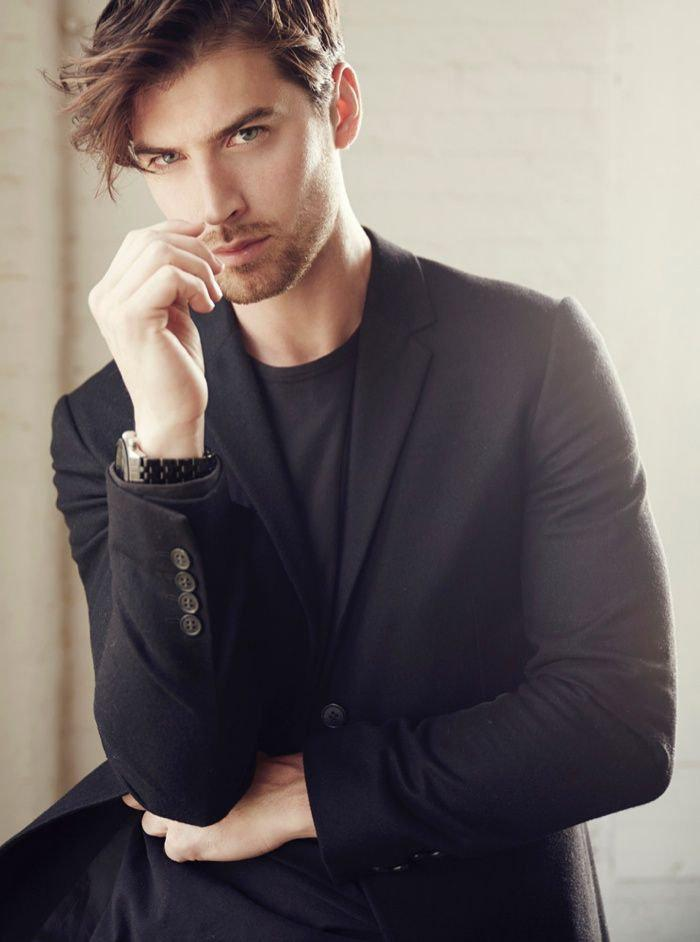Sober: (133, 64, 335, 298)
